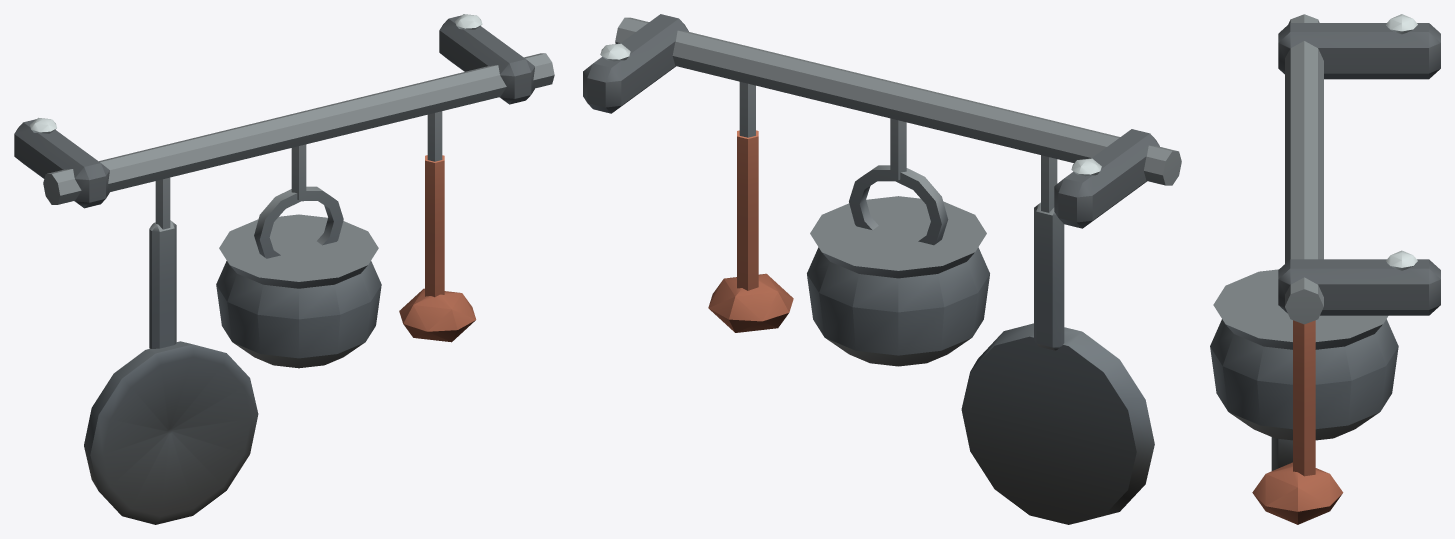
Rendered from pot_rack.glb.
The picture shows the model from 3 angles, left to right: view 1: azimuth 30°, elevation 25°; view 2: azimuth 150°, elevation 25°; view 3: azimuth 270°, elevation 25°; orthographic projection. The views are drawn at different scales.
Visible parts, largest first — view 1: Item; view 2: Item; view 3: Item.
Part boxes in pixels (x1,y1,x2,y2): Item: (14, 14, 554, 524); Item: (583, 14, 1181, 524); Item: (1210, 14, 1440, 524).
Bounding box in the file's own units: 2 × 1.47 × 0.71.
Materials: 3 (3 with a texture image).
